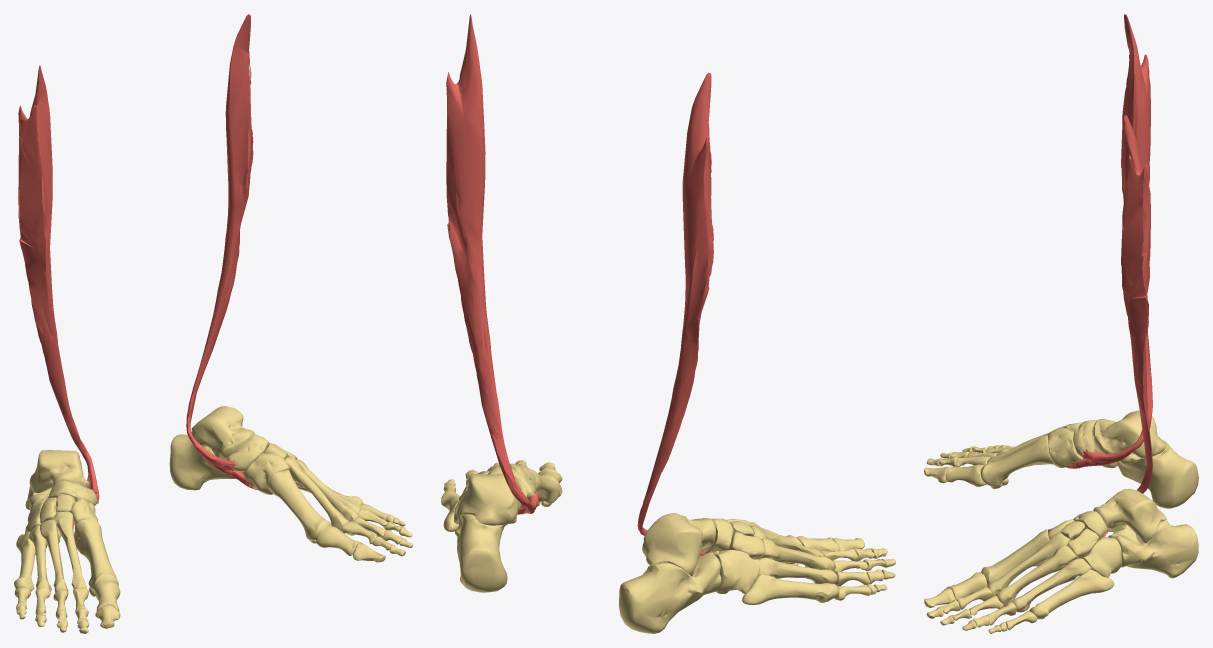
Rendered from ankle-foot.glb.
3 renders of one model, left to right at view 1: azimuth 30°, elevation 25°; view 2: azimuth 150°, elevation 25°; view 3: azimuth 270°, elevation 25°, orthographic. The views are drawn at different scales.
Visible parts, largest first — view 1: ankle-foot:tibialis-posterior:isa:FJ1440, ankle-foot:tibialis-posterior:isa:FJ1440M, ankle-foot:talus:isa:FJ3280, ankle-foot:calcaneus:isa:FJ3256, ankle-foot:talus:isa:FJ3385, ankle-foot:first-metatarsal-bone:isa:FJ3351, ankle-foot:first-metatarsal-bone:isa:FJ3241, ankle-foot:medial-cuneiform-bone:isa:FJ3271, ankle-foot:second-metatarsal:isa:FJ3244, ankle-foot:second-metatarsal:isa:FJ3353, ankle-foot:third-metatarsal-bone:isa:FJ3355, ankle-foot:fifth-metatarsal-bone:isa:FJ3359 (+6 smaller); view 2: ankle-foot:tibialis-posterior:isa:FJ1440M, ankle-foot:tibialis-posterior:isa:FJ1440, ankle-foot:calcaneus:isa:FJ3360, ankle-foot:calcaneus:isa:FJ3256, ankle-foot:talus:isa:FJ3385, ankle-foot:talus:isa:FJ3280, ankle-foot:fifth-metatarsal-bone:isa:FJ3359, ankle-foot:cuboid-bone:isa:FJ3364, ankle-foot:fourth-metatarsal-bone:isa:FJ3357, ankle-foot:third-metatarsal-bone:isa:FJ3355, ankle-foot:first-metatarsal-bone:isa:FJ3241, ankle-foot:lateral-cuneiform-bone:isa:FJ3373 (+1 smaller); view 3: ankle-foot:tibialis-posterior:isa:FJ1440M, ankle-foot:tibialis-posterior:isa:FJ1440, ankle-foot:calcaneus:isa:FJ3256, ankle-foot:calcaneus:isa:FJ3360, ankle-foot:talus:isa:FJ3280, ankle-foot:talus:isa:FJ3385, ankle-foot:first-metatarsal-bone:isa:FJ3351, ankle-foot:fifth-metatarsal-bone:isa:FJ3253, ankle-foot:third-metatarsal-bone:isa:FJ3247, ankle-foot:fourth-metatarsal-bone:isa:FJ3250, ankle-foot:cuboid-bone:isa:FJ3258, ankle-foot:first-metatarsal-bone:isa:FJ3241 (+7 smaller).
Part boxes in pixels (bbox=[...]): ankle-foot:tibialis-posterior:isa:FJ1440: bbox=[18, 65, 99, 529]; ankle-foot:tibialis-posterior:isa:FJ1440M: bbox=[186, 14, 257, 489]; ankle-foot:talus:isa:FJ3280: bbox=[191, 406, 254, 459]; ankle-foot:calcaneus:isa:FJ3256: bbox=[169, 434, 235, 490]; ankle-foot:talus:isa:FJ3385: bbox=[29, 450, 89, 493]; ankle-foot:first-metatarsal-bone:isa:FJ3351: bbox=[74, 517, 118, 591]; ankle-foot:first-metatarsal-bone:isa:FJ3241: bbox=[268, 470, 331, 540]; ankle-foot:medial-cuneiform-bone:isa:FJ3271: bbox=[243, 453, 289, 494]; ankle-foot:second-metatarsal:isa:FJ3244: bbox=[285, 455, 349, 533]; ankle-foot:second-metatarsal:isa:FJ3353: bbox=[53, 511, 86, 589]; ankle-foot:third-metatarsal-bone:isa:FJ3355: bbox=[40, 519, 68, 594]; ankle-foot:fifth-metatarsal-bone:isa:FJ3359: bbox=[14, 531, 35, 591]; ankle-foot:tibialis-posterior:isa:FJ1440M: bbox=[446, 14, 538, 514]; ankle-foot:tibialis-posterior:isa:FJ1440: bbox=[637, 72, 713, 556]; ankle-foot:calcaneus:isa:FJ3360: bbox=[619, 552, 721, 633]; ankle-foot:calcaneus:isa:FJ3256: bbox=[455, 501, 516, 592]; ankle-foot:talus:isa:FJ3385: bbox=[642, 513, 715, 576]; ankle-foot:talus:isa:FJ3280: bbox=[459, 467, 527, 525]; ankle-foot:fifth-metatarsal-bone:isa:FJ3359: bbox=[742, 574, 839, 604]; ankle-foot:cuboid-bone:isa:FJ3364: bbox=[714, 550, 759, 594]; ankle-foot:fourth-metatarsal-bone:isa:FJ3357: bbox=[758, 557, 837, 583]; ankle-foot:third-metatarsal-bone:isa:FJ3355: bbox=[752, 538, 834, 570]; ankle-foot:first-metatarsal-bone:isa:FJ3241: bbox=[521, 466, 560, 503]; ankle-foot:lateral-cuneiform-bone:isa:FJ3373: bbox=[728, 532, 764, 558]; ankle-foot:tibialis-posterior:isa:FJ1440M: bbox=[1100, 115, 1152, 538]; ankle-foot:tibialis-posterior:isa:FJ1440: bbox=[1066, 14, 1152, 468]; ankle-foot:calcaneus:isa:FJ3256: bbox=[1108, 520, 1198, 578]; ankle-foot:calcaneus:isa:FJ3360: bbox=[1116, 440, 1198, 508]; ankle-foot:talus:isa:FJ3280: bbox=[1093, 489, 1166, 543]; ankle-foot:talus:isa:FJ3385: bbox=[1093, 410, 1166, 458]; ankle-foot:first-metatarsal-bone:isa:FJ3351: bbox=[981, 435, 1053, 486]; ankle-foot:fifth-metatarsal-bone:isa:FJ3253: bbox=[1029, 569, 1114, 619]; ankle-foot:third-metatarsal-bone:isa:FJ3247: bbox=[996, 545, 1076, 606]; ankle-foot:fourth-metatarsal-bone:isa:FJ3250: bbox=[1011, 558, 1091, 612]; ankle-foot:cuboid-bone:isa:FJ3258: bbox=[1082, 536, 1122, 577]; ankle-foot:first-metatarsal-bone:isa:FJ3241: bbox=[981, 529, 1049, 586].
Size of the model in its own units: 0.3387 by 0.4062 by 0.212.
